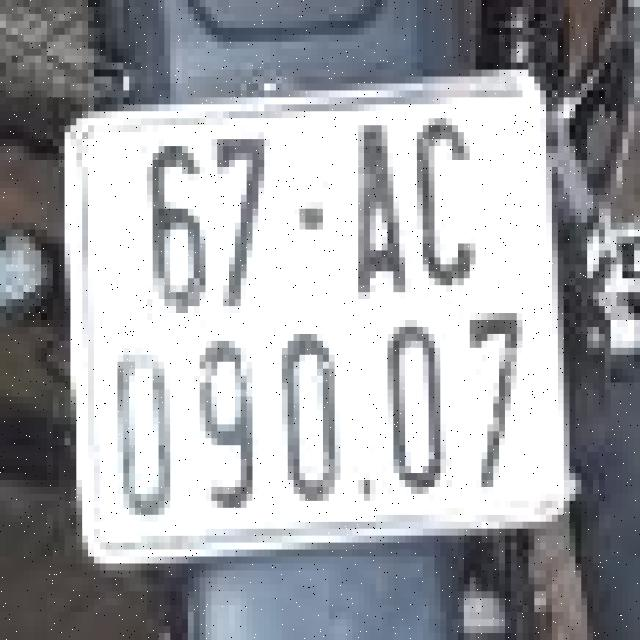0: (379, 313, 449, 501), (109, 341, 179, 522), (282, 327, 346, 508)
6: (141, 136, 211, 324)
7: (461, 306, 531, 494), (214, 128, 279, 316)
9: (194, 334, 264, 515)
A: (346, 118, 411, 299)
C: (414, 114, 484, 296)
